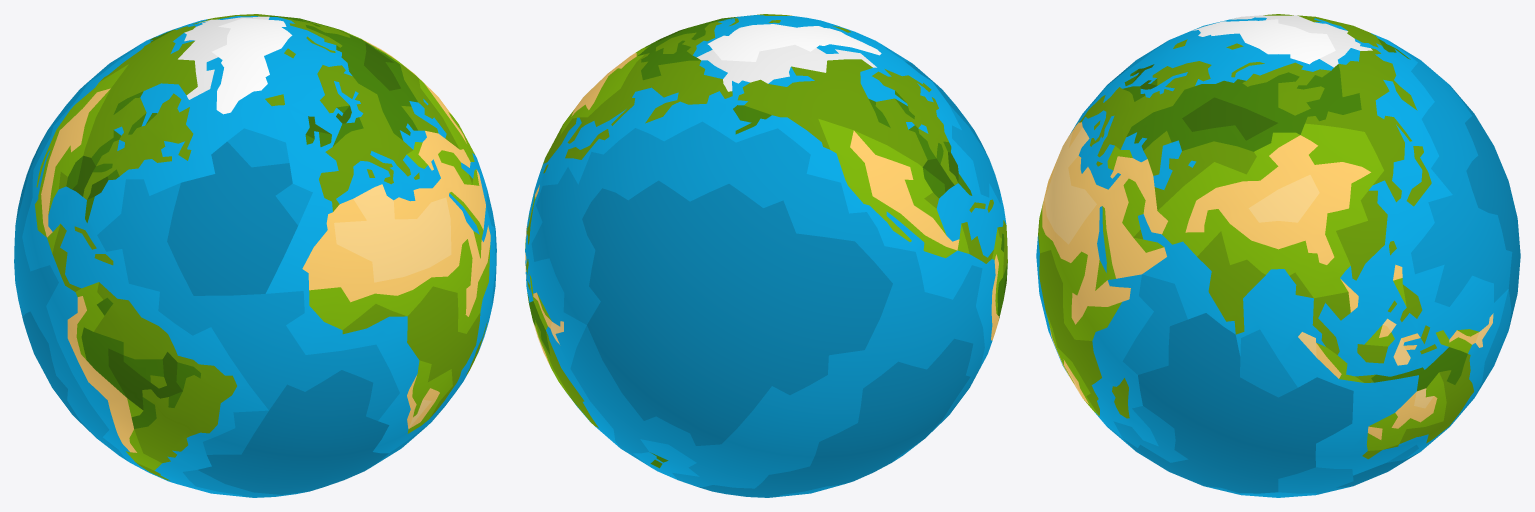
The model's file is earth.glb.
The picture shows the model from 3 angles, left to right: view 1: azimuth 30°, elevation 25°; view 2: azimuth 150°, elevation 25°; view 3: azimuth 270°, elevation 25°; orthographic projection.
Visible parts, largest first — view 1: earth_ball; view 2: earth_ball; view 3: earth_ball.
Boxes of the visible parts, x1,y1,x2,y2 form: earth_ball: (14, 14, 496, 497); earth_ball: (525, 14, 1007, 497); earth_ball: (1036, 14, 1520, 497).
Size of the model in its own units: 23.51 by 23.64 by 23.52.
Materials: 1 (1 with a texture image).
